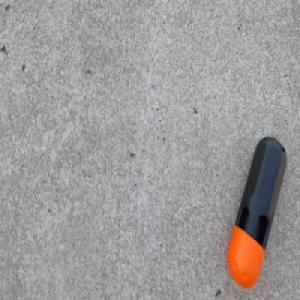PlasticPart: (225, 135, 287, 289)
